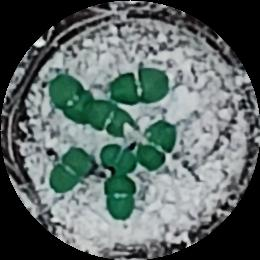Basil: (106, 67, 173, 105), (47, 77, 97, 125), (84, 98, 141, 140), (48, 147, 95, 195), (135, 118, 180, 167), (100, 169, 135, 222), (100, 143, 142, 175)
